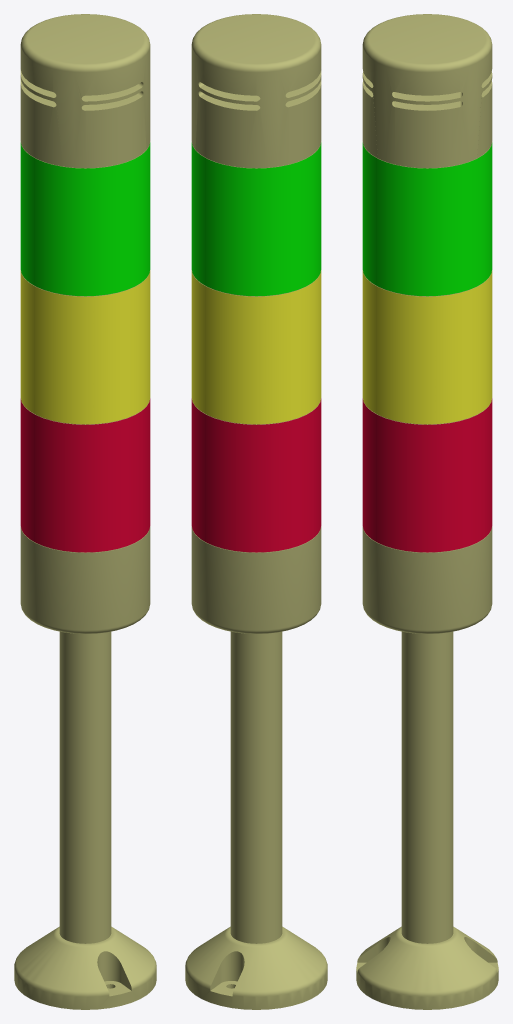
The model's file is Andon.fbx.
3 renders of one model, left to right at view 1: azimuth 30°, elevation 25°; view 2: azimuth 150°, elevation 25°; view 3: azimuth 270°, elevation 25°, orthographic.
Parts seen in each view (by area): view 1: Andon light; view 2: Andon light; view 3: Andon light.
Boxes of the visible parts, x1,y1,x2,y2 form: Andon light: [14, 14, 156, 1009]; Andon light: [185, 14, 327, 1009]; Andon light: [356, 14, 498, 1009].
Bounding box in the file's own units: 6.99 × 50.86 × 6.99.
